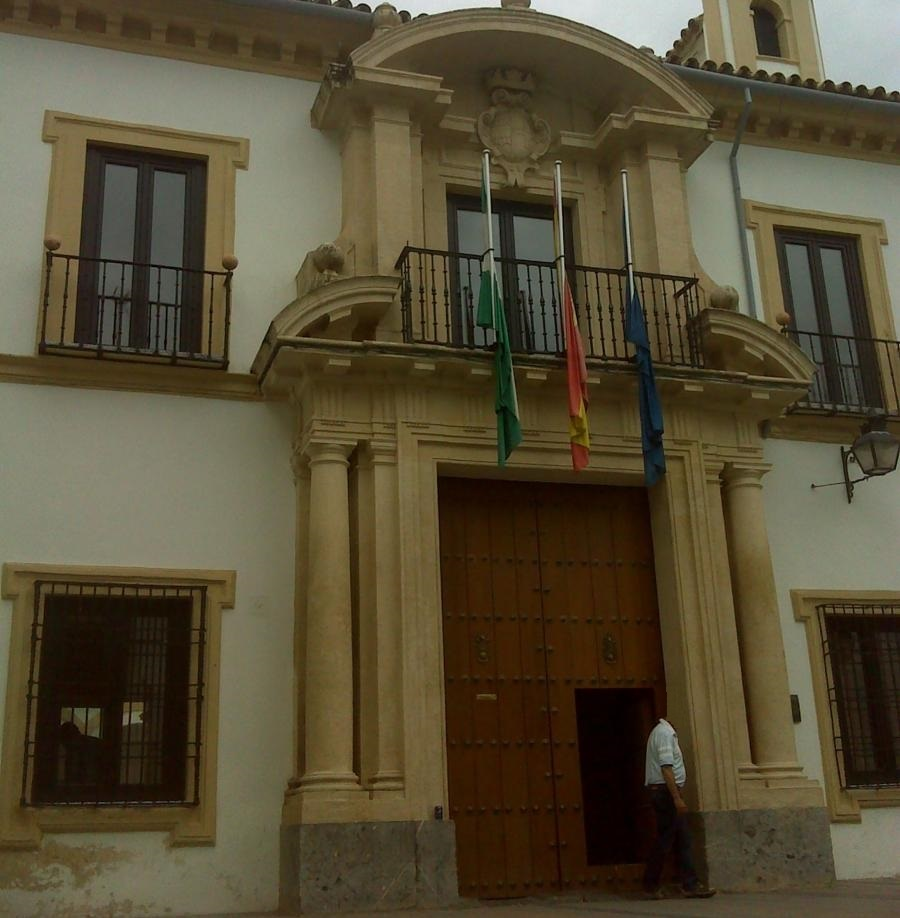fronton-partido: (259, 270, 827, 409), (325, 1, 719, 140)
vano-adintelado: (385, 421, 732, 909), (1, 560, 239, 849), (34, 105, 243, 375), (734, 192, 900, 414), (789, 581, 900, 815)
